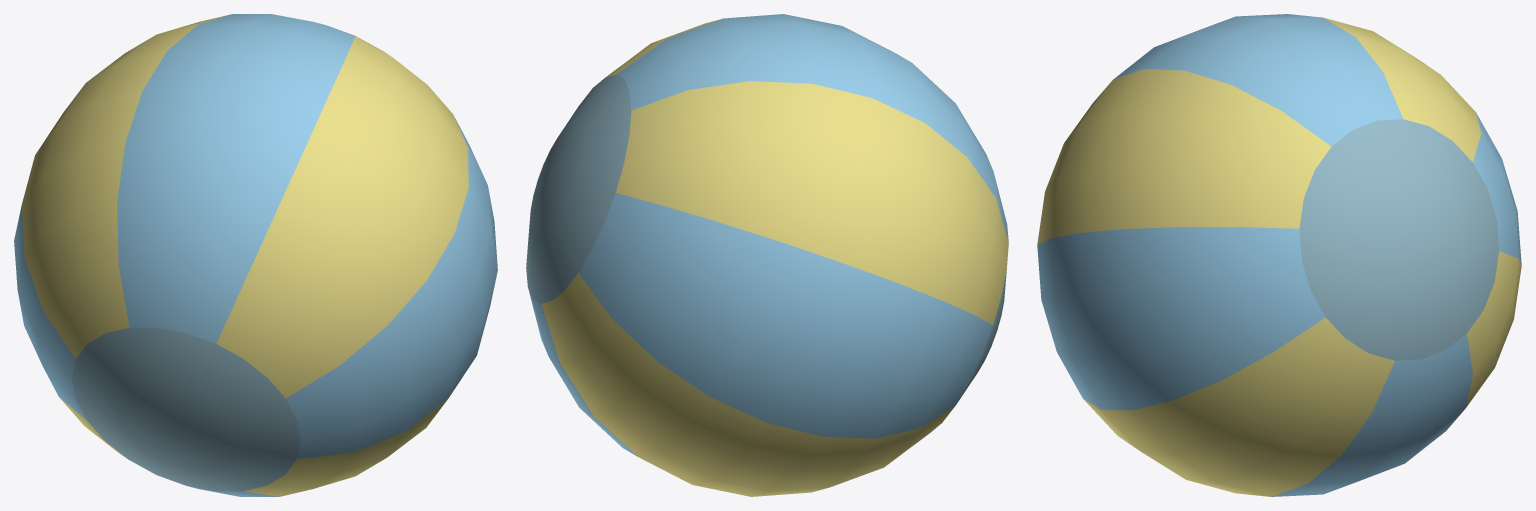
File: ball1.fbx
3 renders of one model, left to right at view 1: azimuth 30°, elevation 25°; view 2: azimuth 150°, elevation 25°; view 3: azimuth 270°, elevation 25°, orthographic.
Parts seen in each view (by area): view 1: 球体.001; view 2: 球体.001; view 3: 球体.001.
Boxes of the visible parts, left/top/right/bottom form: 球体.001: left=14, top=14, right=497, bottom=496; 球体.001: left=526, top=14, right=1008, bottom=496; 球体.001: left=1037, top=14, right=1521, bottom=496.
Bounding box in the file's own units: 27.31 × 27.22 × 27.1.
